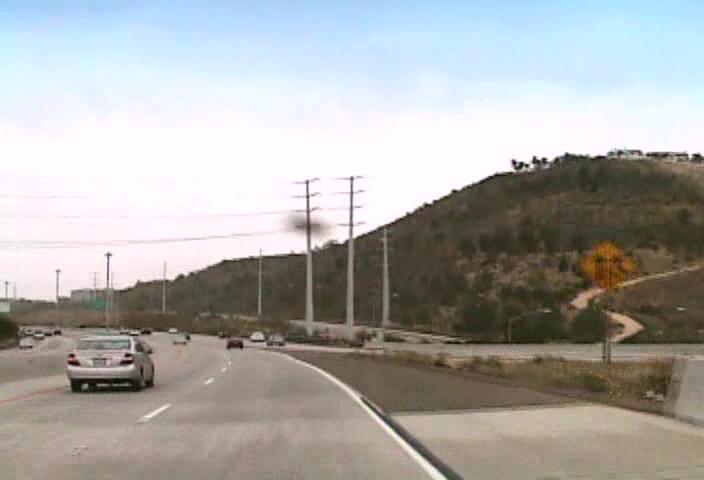addedLane: (577, 238, 635, 292)
